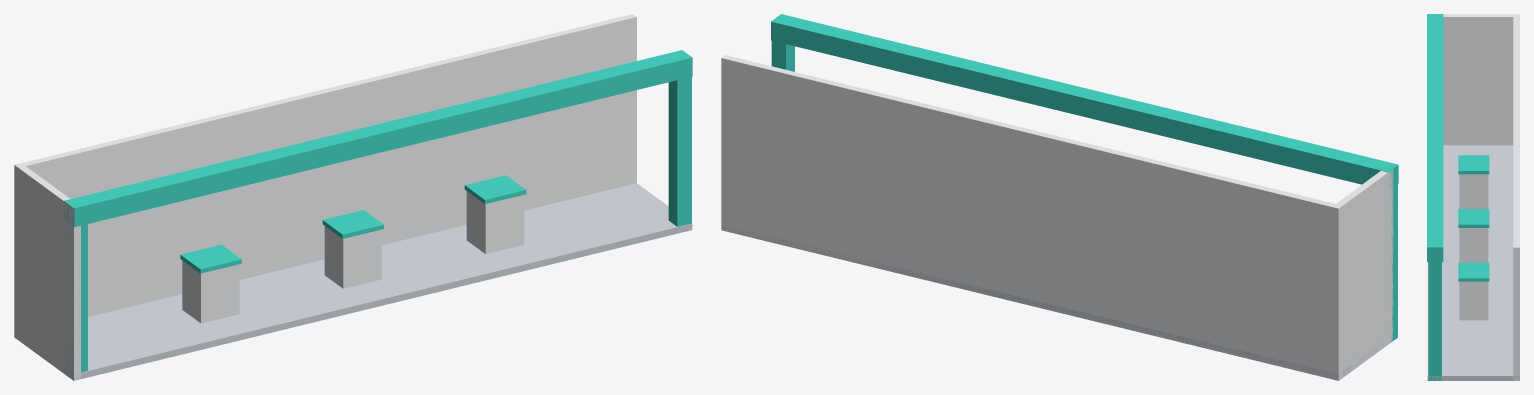
3 renders of one model, left to right at view 1: azimuth 30°, elevation 25°; view 2: azimuth 150°, elevation 25°; view 3: azimuth 270°, elevation 25°, orthographic. The views are drawn at different scales.
Parts seen in each view (by area): view 1: Exhibition Booth Concept; view 2: Exhibition Booth Concept; view 3: Exhibition Booth Concept.
Boxes of the visible parts, <box> form: Exhibition Booth Concept: <box>14,14,692,380</box>; Exhibition Booth Concept: <box>721,14,1398,380</box>; Exhibition Booth Concept: <box>1427,14,1519,380</box>.
Size of the model in its own units: 12 by 3.2 by 2.01.
